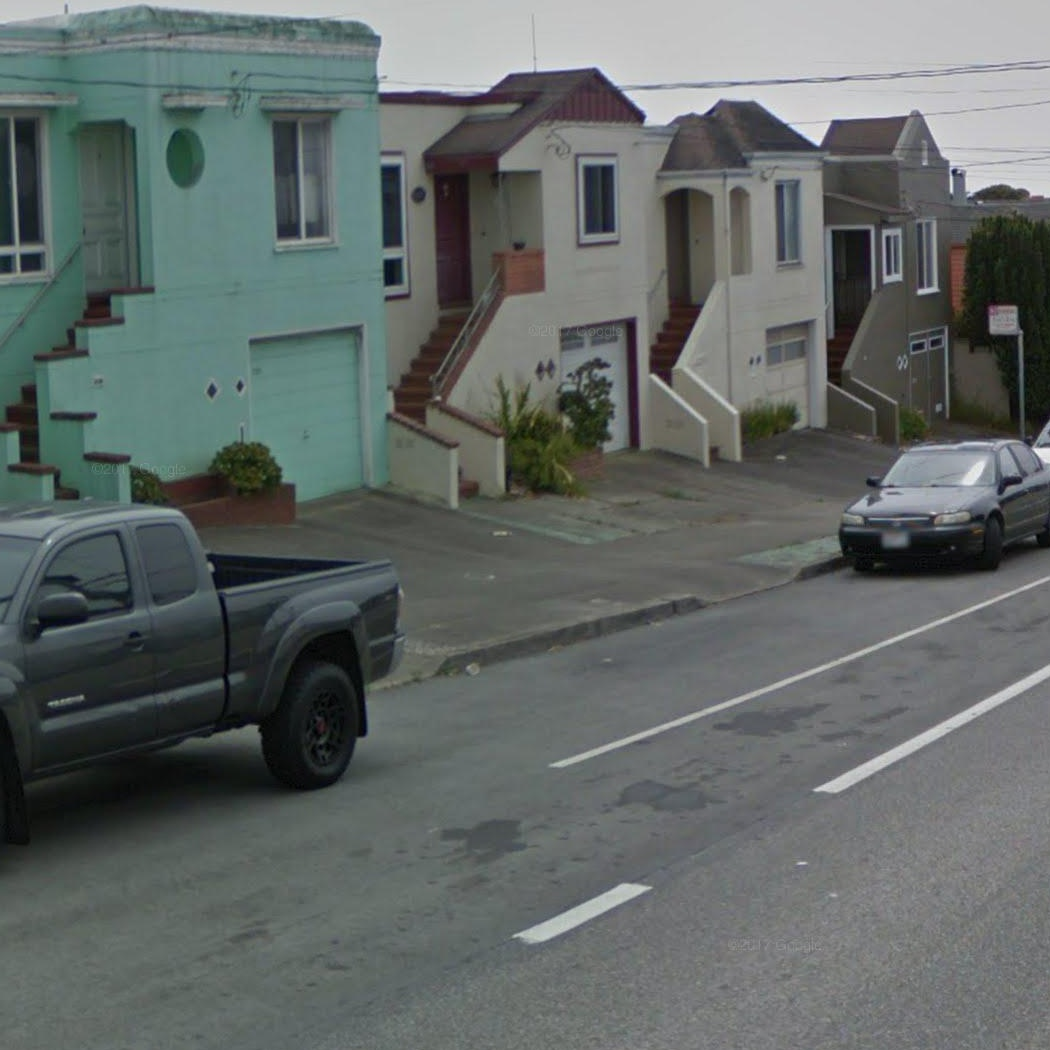No Parking: (987, 303, 1018, 335)
